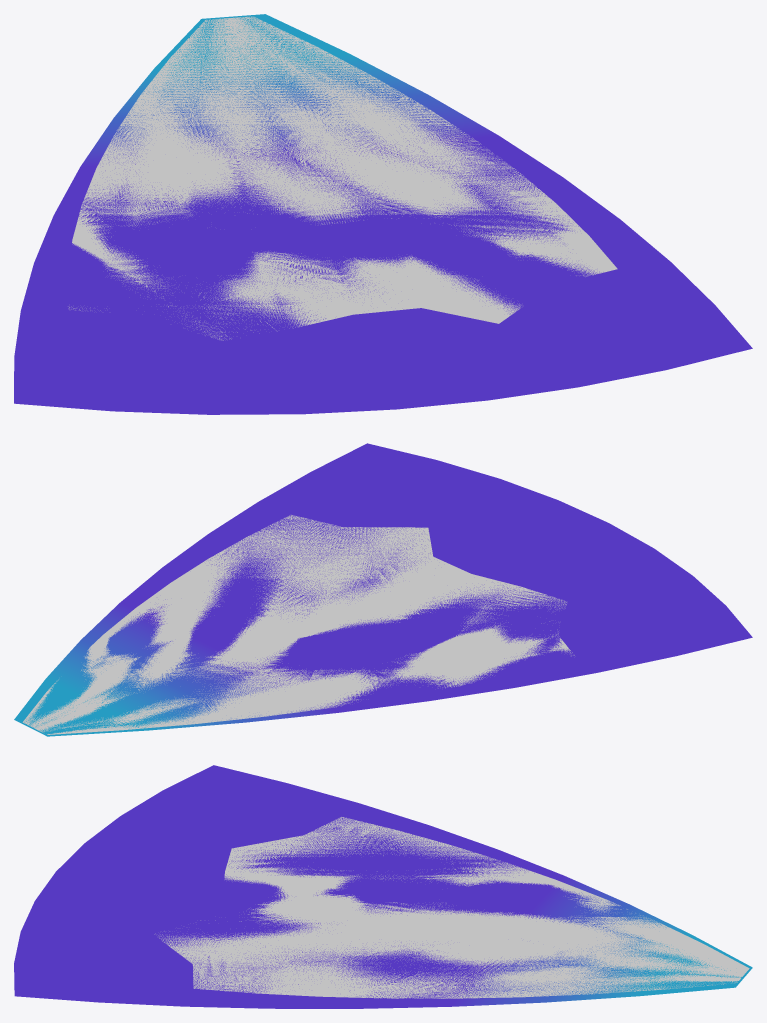
The model's file is pref_fx_Dratini_spell02_atk02_3_lv1.fbx.
The picture shows the model from 3 angles, top to bottom: view 1: azimuth 30°, elevation 25°; view 2: azimuth 150°, elevation 25°; view 3: azimuth 270°, elevation 25°; orthographic projection. The views are drawn at different scales.
Parts seen in each view (by area): view 1: m_wind_02 (1); view 2: m_wind_02 (1); view 3: m_wind_02 (1).
Boxes of the visible parts, x1=… form: m_wind_02 (1): x1=14, y1=14, x2=752, y2=414; m_wind_02 (1): x1=14, y1=443, x2=752, y2=736; m_wind_02 (1): x1=14, y1=765, x2=752, y2=1008.
Bounding box in the file's own units: 3.82 × 8.01e-16 × 4.89.
